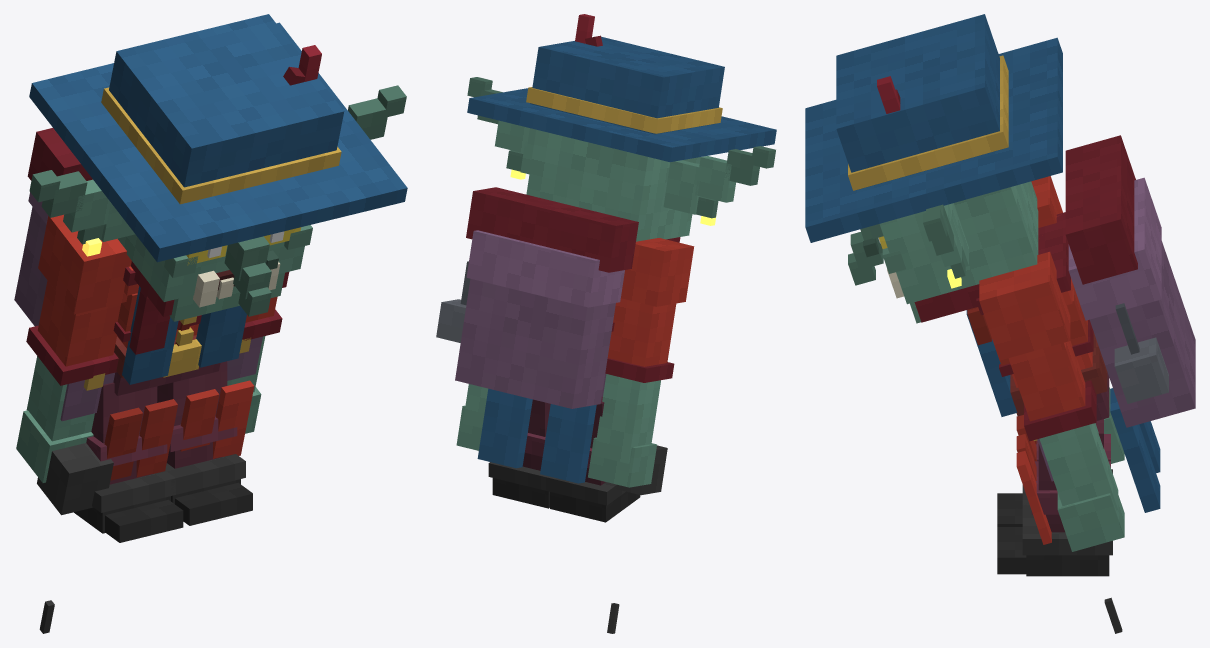
File: goblin_marchand.glb
The picture shows the model from 3 angles, left to right: view 1: azimuth 30°, elevation 25°; view 2: azimuth 150°, elevation 25°; view 3: azimuth 270°, elevation 25°; orthographic projection. The views are drawn at different scales.
Visible parts, largest first — view 1: Head, Torso, ArmR, LegR, LegL, HandR, ArmL; view 2: Head, Torso, ArmR, LegL, LegR, ArmL, HandR; view 3: Head, Torso, ArmL, LegL, ArmR, LegR.
Part boxes in pixels (x1=…): Head: x1=29, y1=14, x2=407, y2=321; Torso: x1=14, y1=128, x2=262, y2=480; ArmR: x1=16, y1=214, x2=131, y2=482; LegR: x1=74, y1=382, x2=183, y2=542; LegL: x1=157, y1=361, x2=252, y2=525; HandR: x1=37, y1=443, x2=113, y2=633; ArmL: x1=227, y1=296, x2=282, y2=433; Head: x1=467, y1=14, x2=776, y2=242; Torso: x1=436, y1=187, x2=638, y2=483; ArmR: x1=588, y1=238, x2=694, y2=487; LegL: x1=488, y1=399, x2=550, y2=508; LegR: x1=546, y1=397, x2=640, y2=522; ArmL: x1=456, y1=384, x2=488, y2=450; HandR: x1=607, y1=445, x2=667, y2=633; Head: x1=805, y1=14, x2=1062, y2=323; Torso: x1=966, y1=135, x2=1195, y2=544; ArmL: x1=979, y1=251, x2=1124, y2=551; LegL: x1=997, y1=419, x2=1112, y2=576; ArmR: x1=1031, y1=176, x2=1124, y2=463; LegR: x1=997, y1=434, x2=1112, y2=526.
Size of the model in its own units: 1.09 by 1.81 by 1.03.
42 materials, 42 textured.
